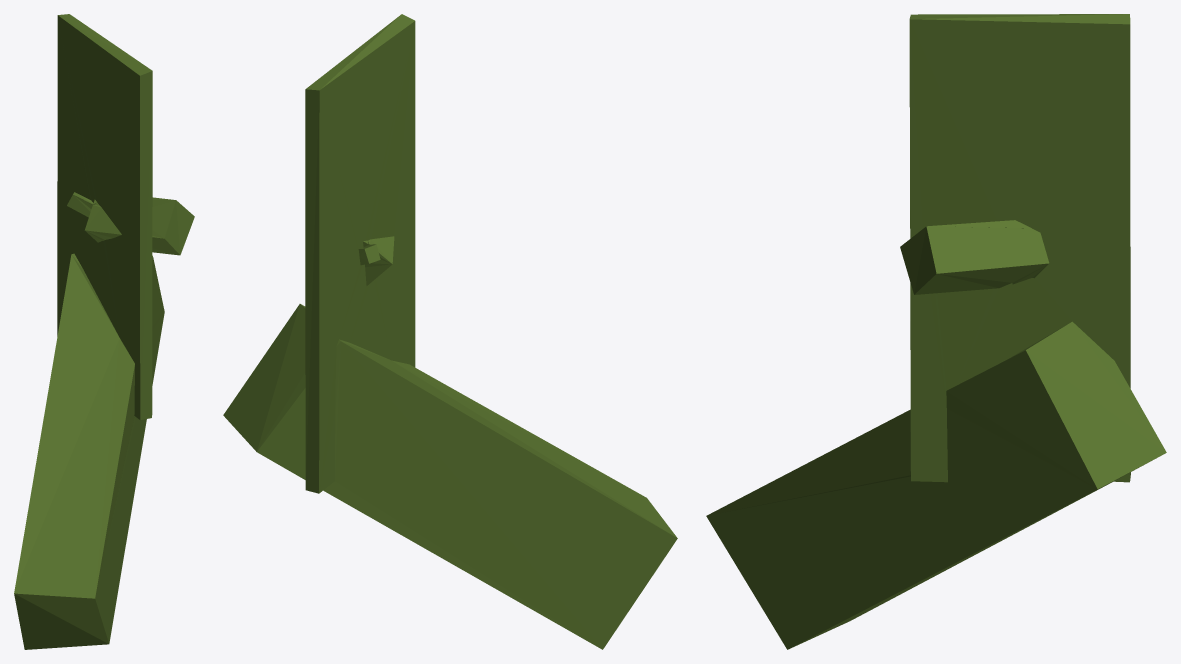
The picture shows the model from 3 angles, left to right: view 1: azimuth 30°, elevation 25°; view 2: azimuth 150°, elevation 25°; view 3: azimuth 270°, elevation 25°; orthographic projection. The views are drawn at different scales.
Visible parts, largest first — view 1: 133_Cube.551; view 2: 133_Cube.551; view 3: 133_Cube.551.
Boxes of the visible parts, bbox=[...] form: 133_Cube.551: bbox=[14, 14, 194, 649]; 133_Cube.551: bbox=[223, 14, 677, 649]; 133_Cube.551: bbox=[706, 14, 1166, 649].
Bounding box in the file's own units: 9.83 × 18.26 × 10.9.
